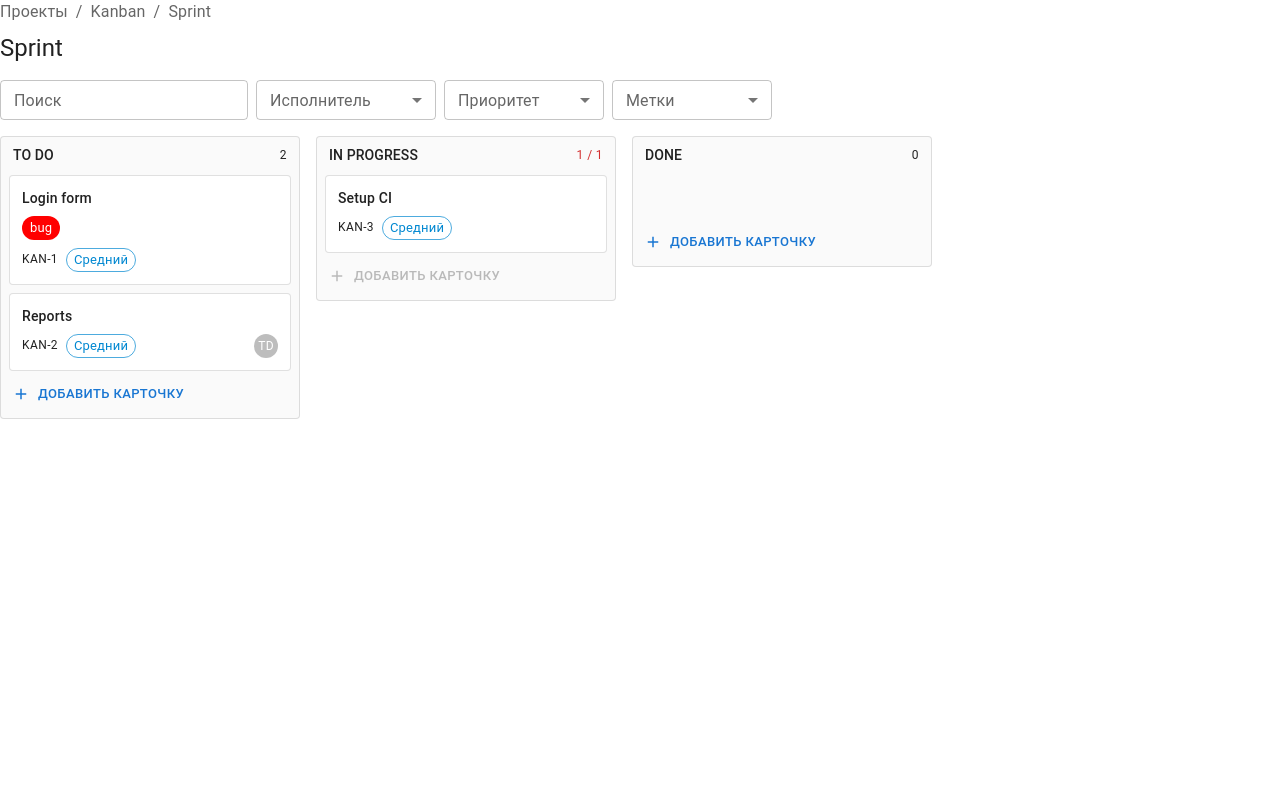
Test: BoardPage › TC-07: перемещение в заполненную колонку откатывается с предупреждением
Click the button with aria-label "Карточка KAN-1: Login form" at (57, 198), box [9,175,291,285]
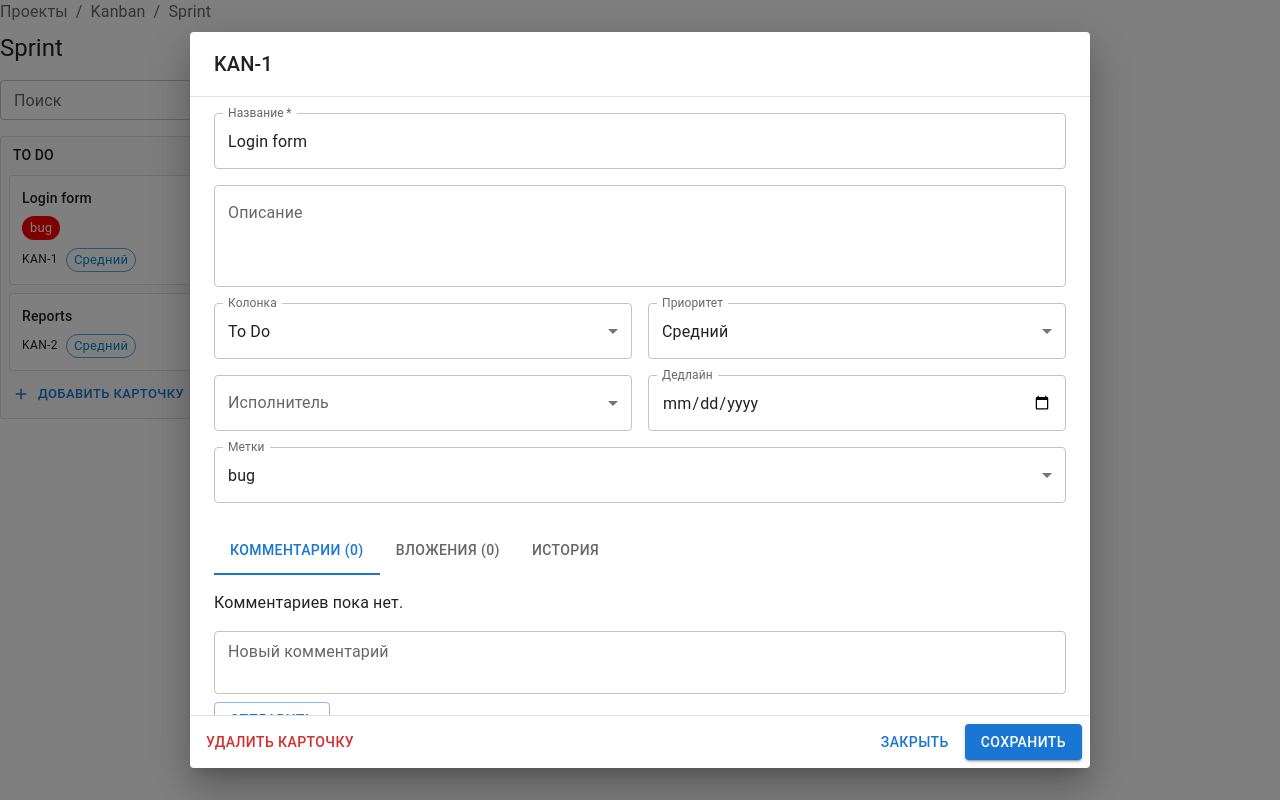
Click the dropdown named "Колонка" at (249, 331), box [228,322,270,340]
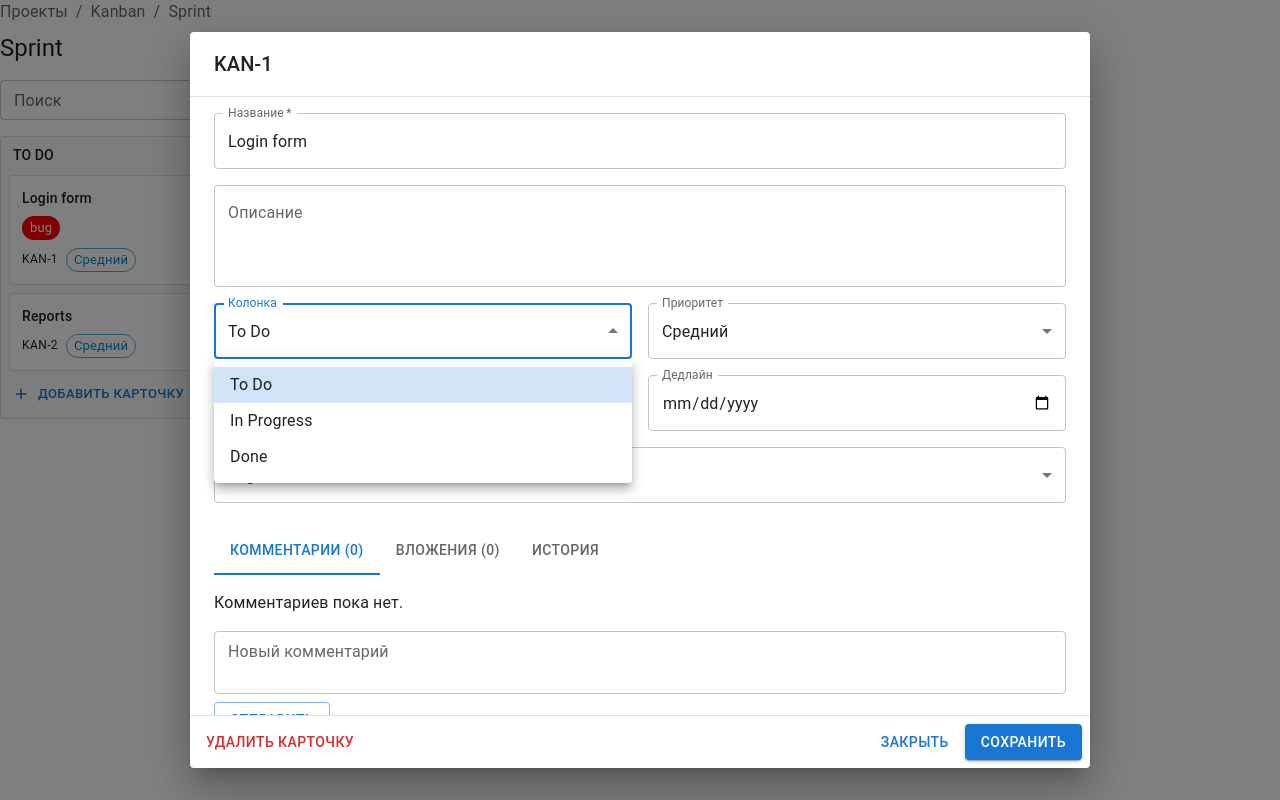
Click the option "In Progress" at (271, 420), box [230,411,313,430]
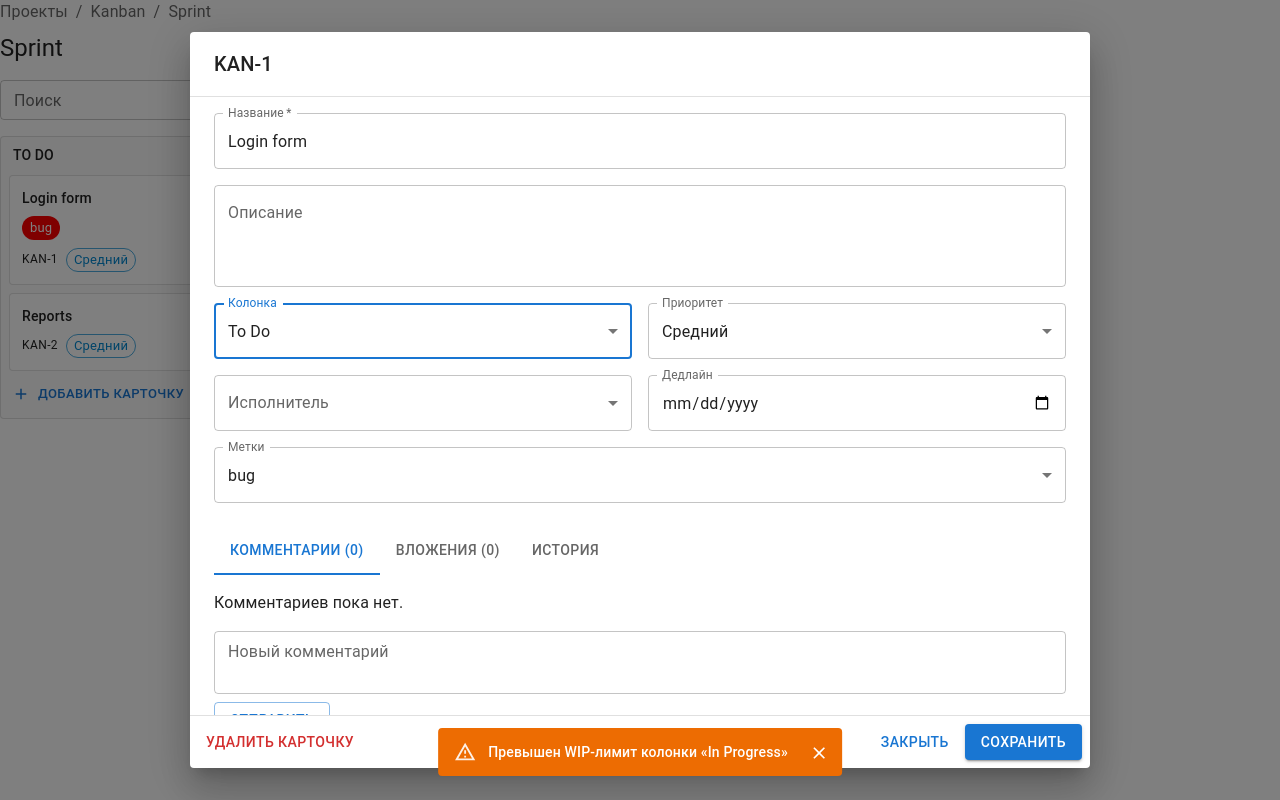
expect the text "Превышен WIP-лимит колонки «In Progress»" is shown: met, box [488,744,788,760]
